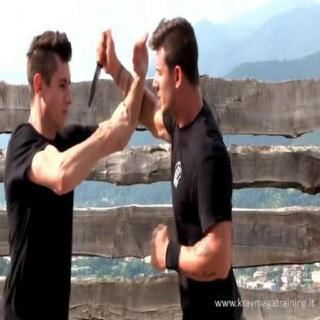knife: (84, 28, 114, 112)
